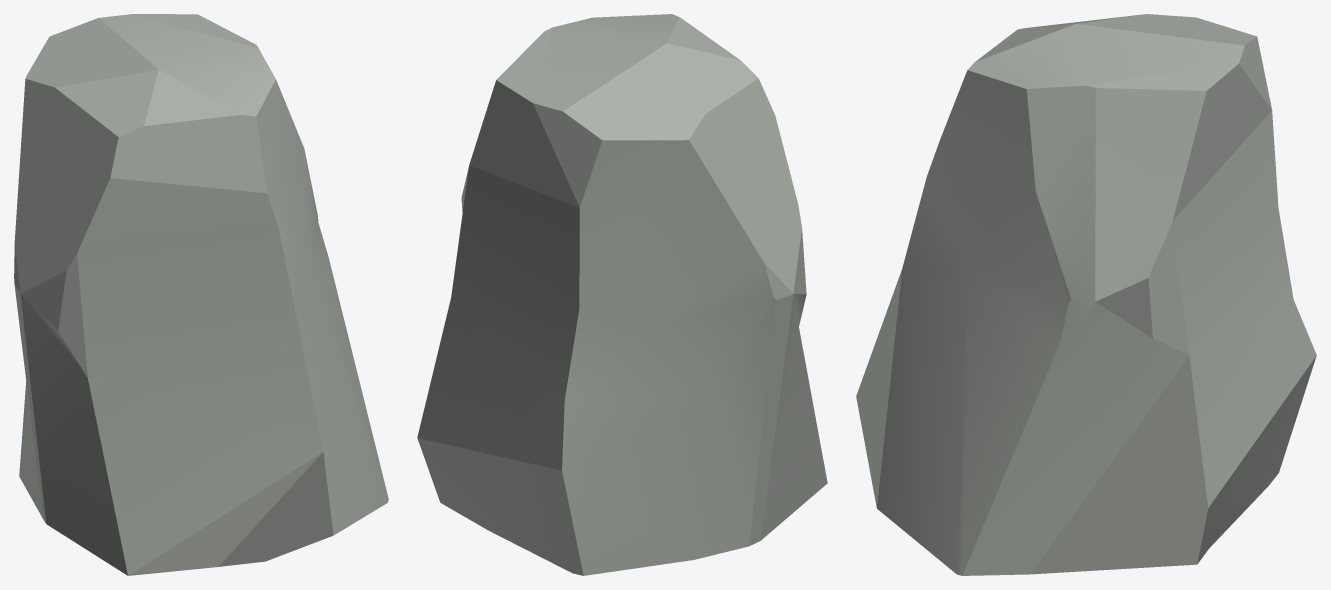
Rendered from dummy_cliff_3.fbx.
3 views of the same model, side by side, from view 1: azimuth 30°, elevation 25°; view 2: azimuth 150°, elevation 25°; view 3: azimuth 270°, elevation 25° (orthographic). The views are drawn at different scales.
Parts seen in each view (by area): view 1: Rock.024; view 2: Rock.024; view 3: Rock.024.
Part boxes in pixels (x1=…): Rock.024: x1=14, y1=14, x2=388, y2=575; Rock.024: x1=417, y1=14, x2=827, y2=575; Rock.024: x1=856, y1=14, x2=1316, y2=575.
Bounding box in the file's own units: 780 × 1078 × 959.
1 material, 1 textured.
